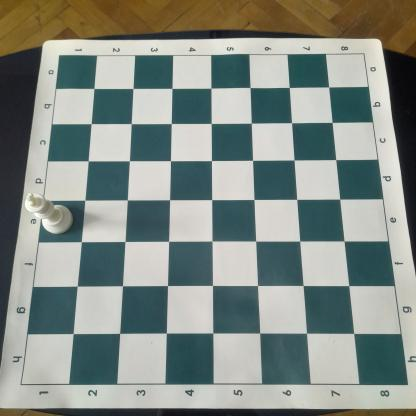white-king: (24, 191, 74, 235)
